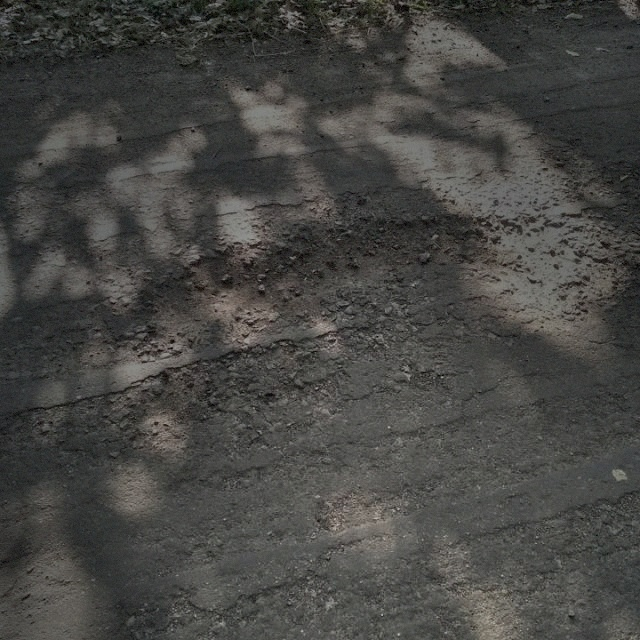pothole: (140, 208, 510, 348)
